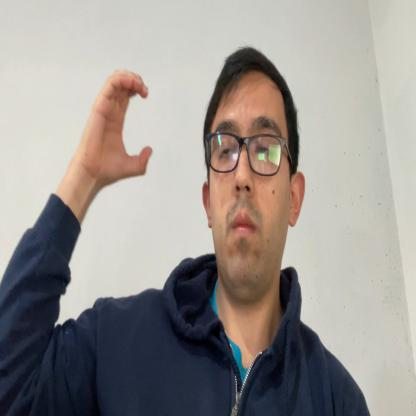C: (86, 69, 154, 184)
